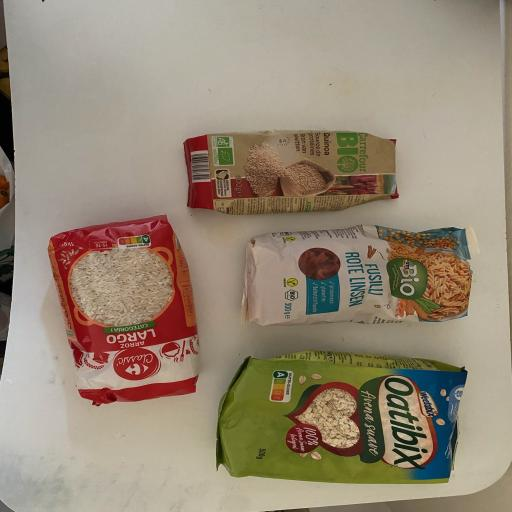oat: (214, 348, 469, 488)
quinoa: (180, 127, 406, 217)
rice: (43, 215, 202, 410)
